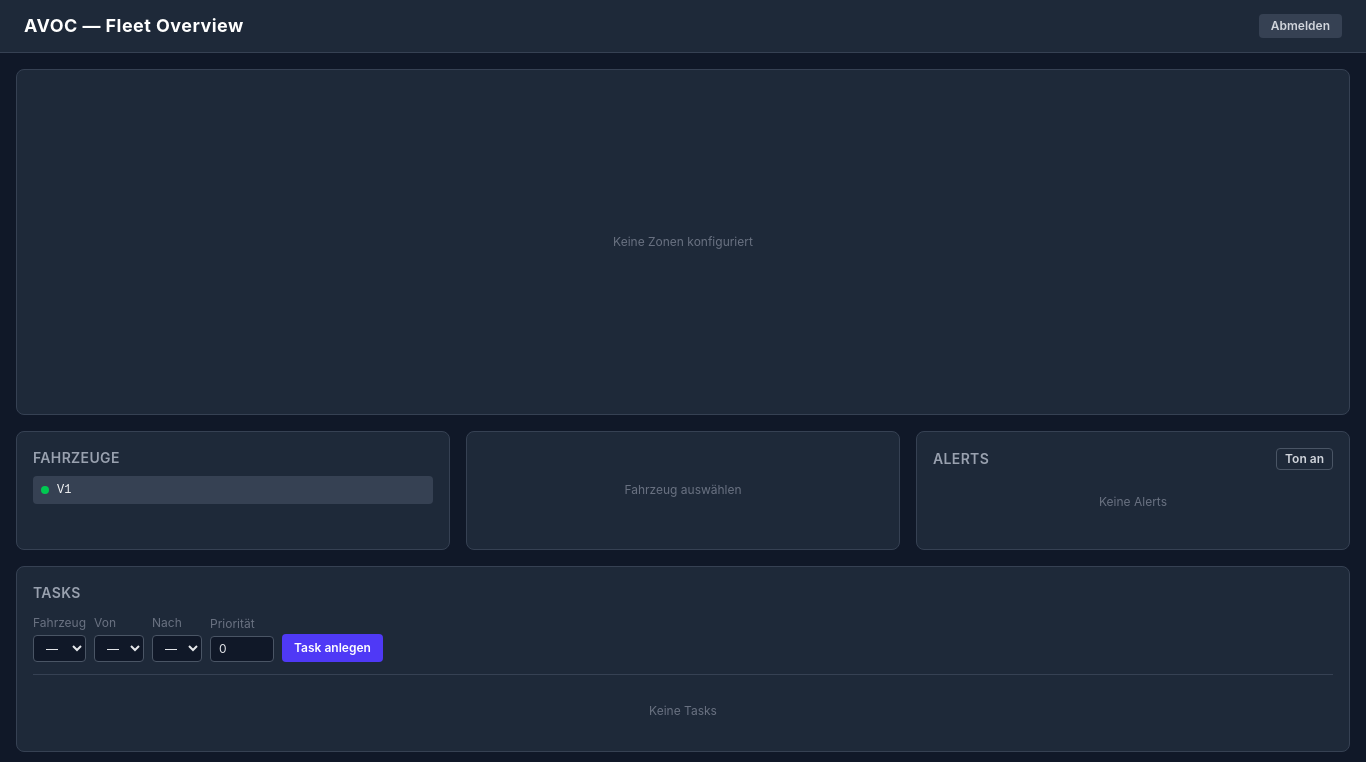
Test: FleetOverview › Fahrzeug auswählen aktualisiert das Detail-Panel
The image size is (1366, 762).
Expected: the text "Fahrzeug auswählen" is shown, [624, 482, 742, 498]
Click the button "V1": (45, 490) [33, 476, 433, 504]
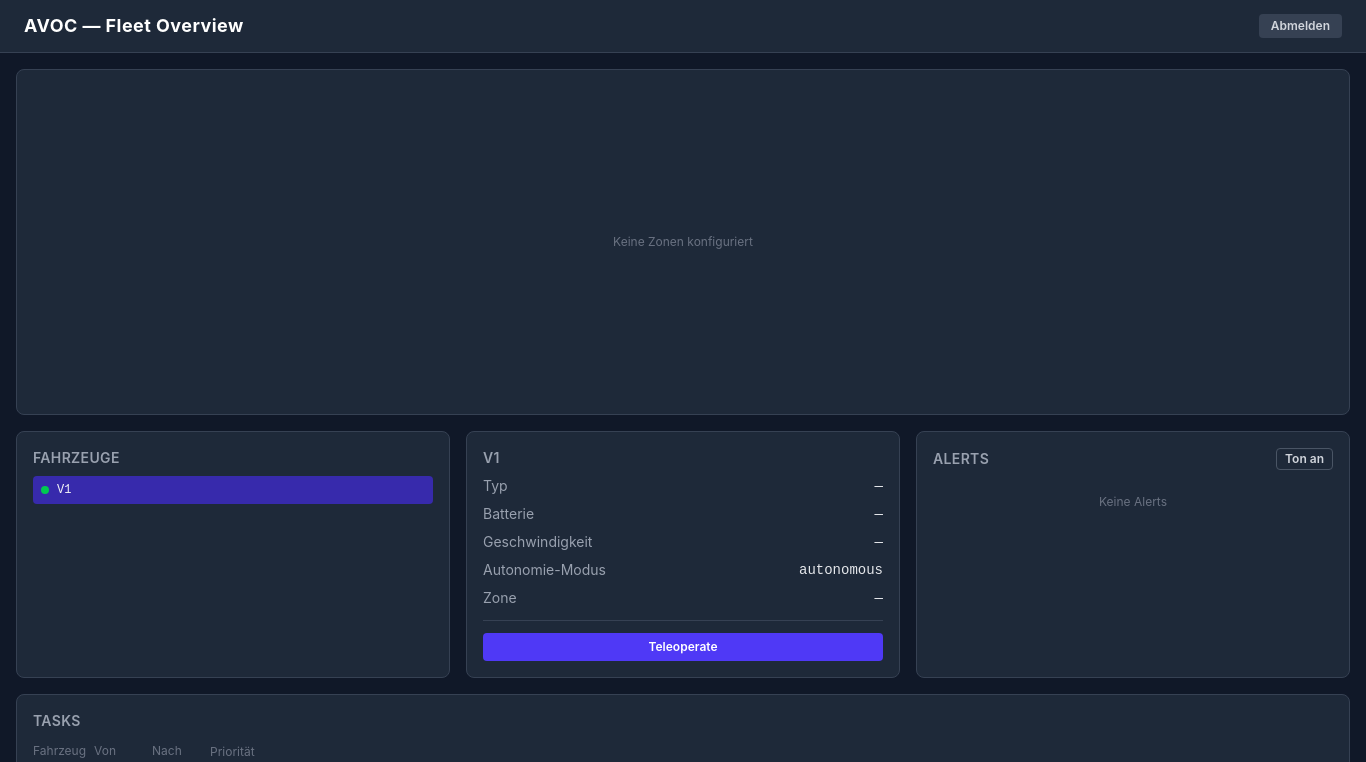
Expected: the text "Fahrzeug auswählen" is gone
